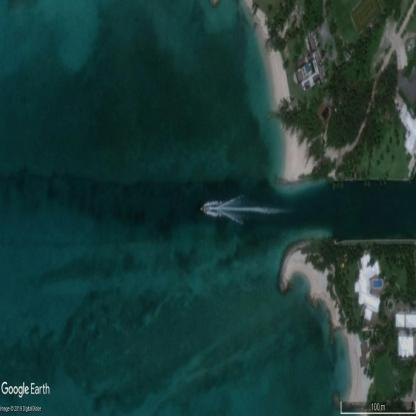ship: (200, 205, 209, 212)
